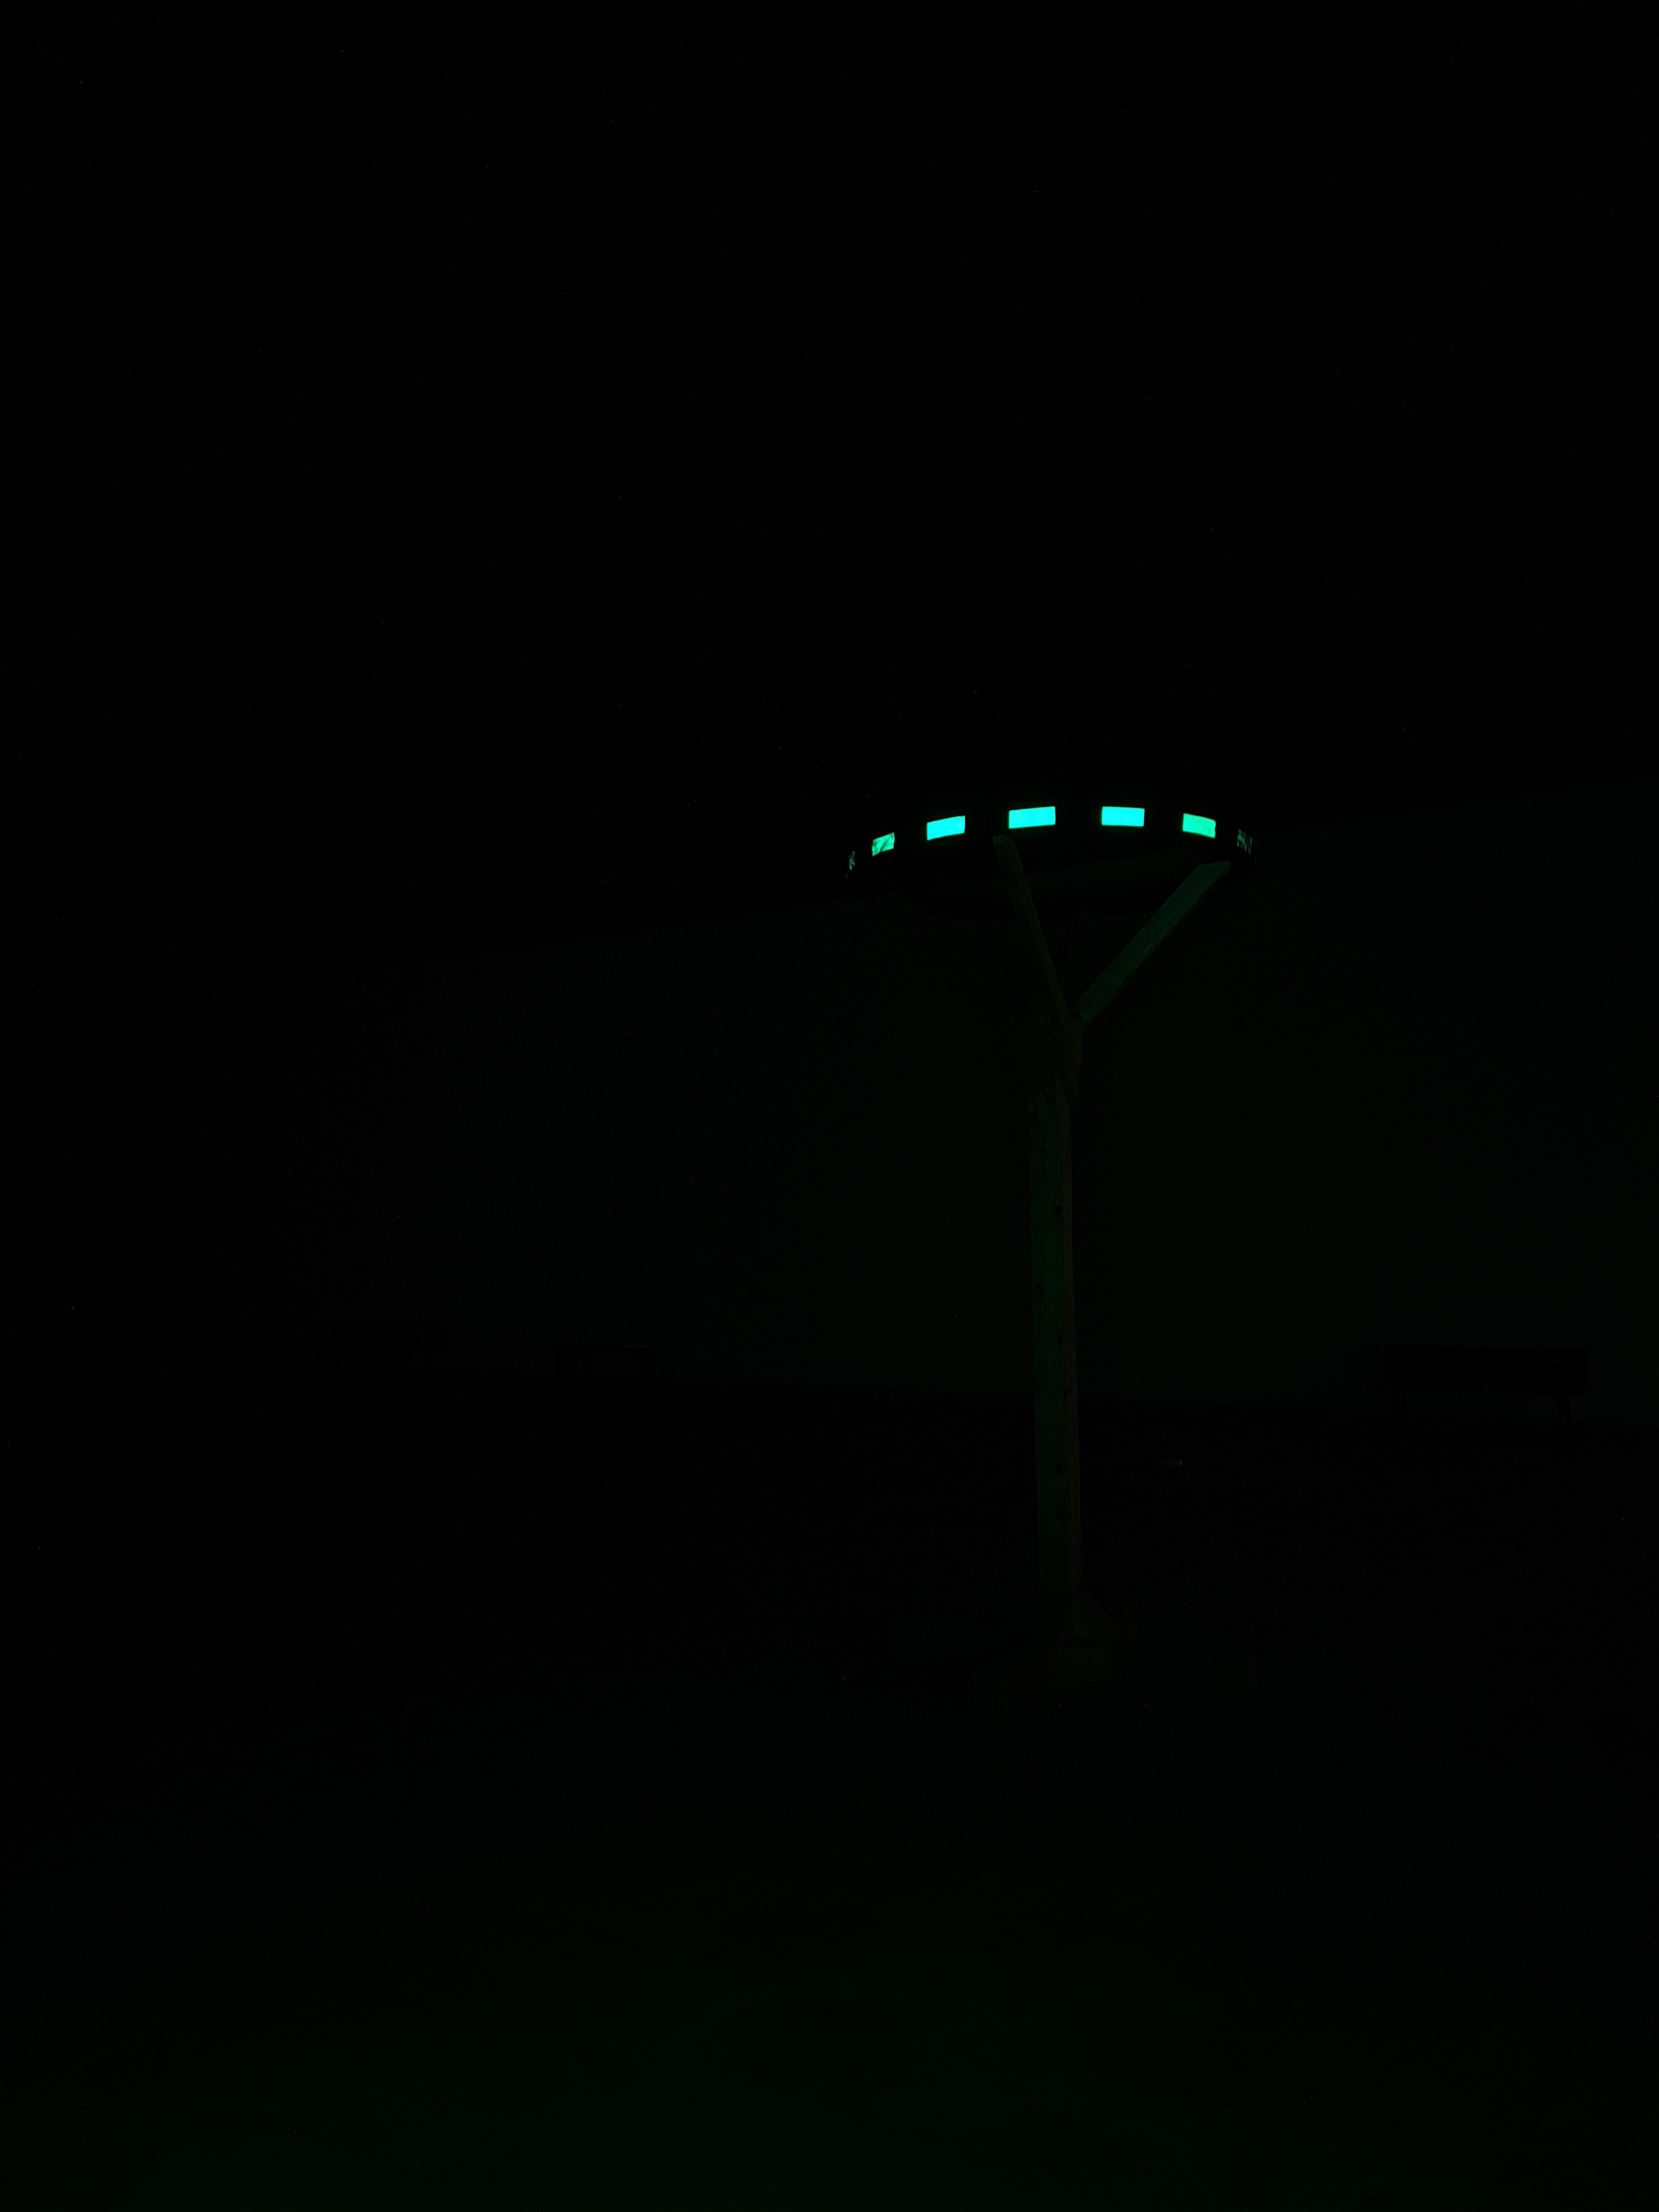hoop: (845, 805, 1253, 874)
